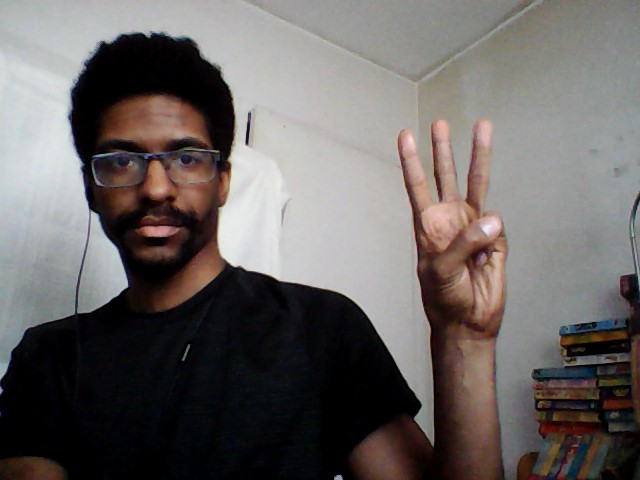w: (392, 114, 515, 343)
